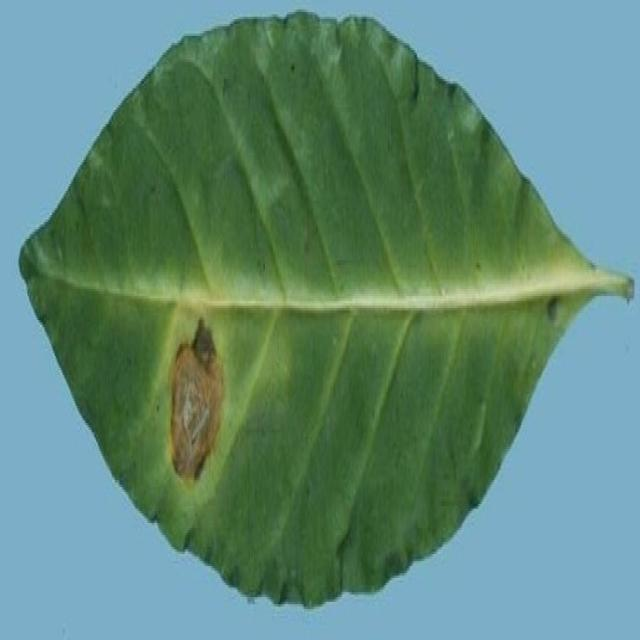Enfermedad-Mancha-de-hierro: (18, 12, 634, 611)
